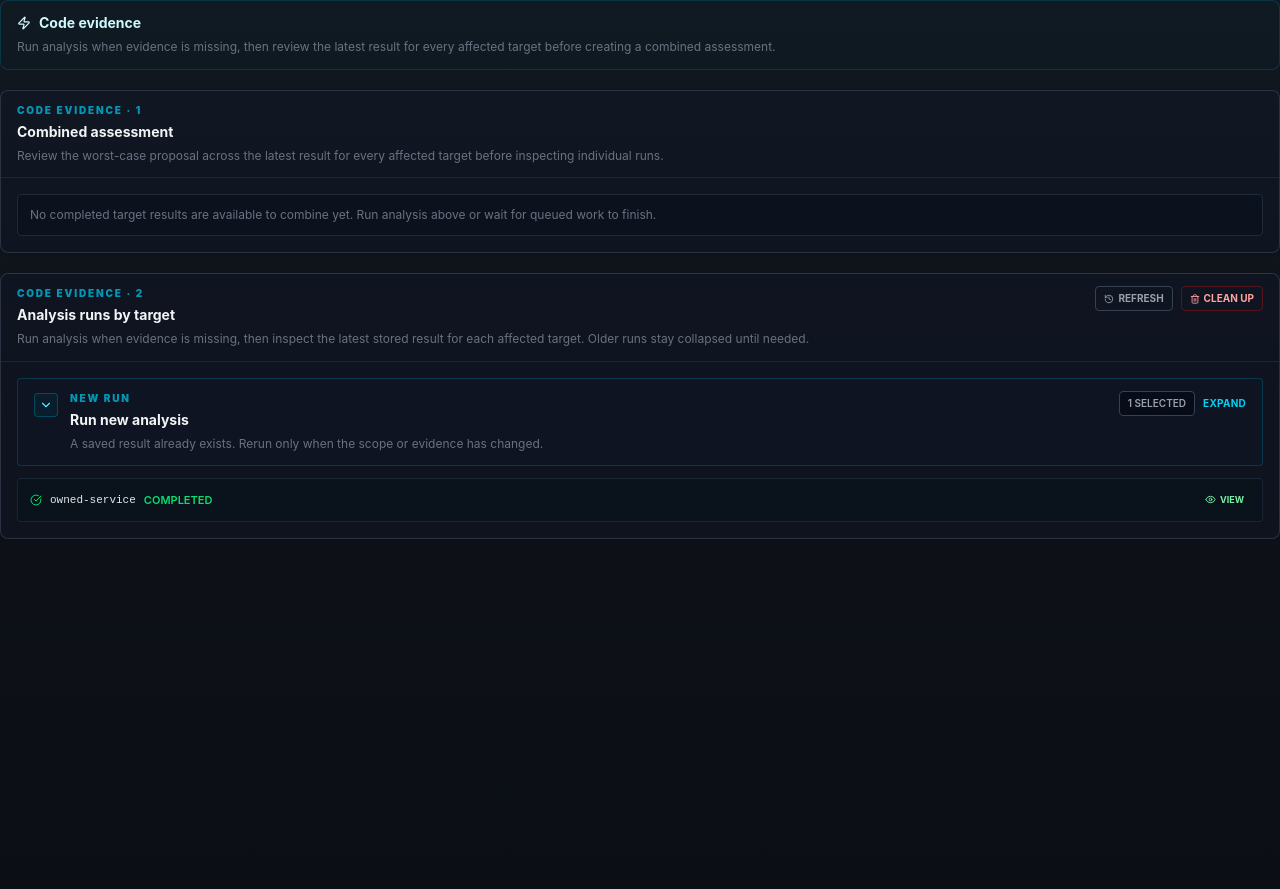
Test case: CodeAnalysisPanel › offers an opened completed queue result as the combined draft while history persistence catches up
The width and height of the screenshot is (1280, 889).
Click the button "View". click: [1224, 500]
box: [1199, 489, 1250, 510]
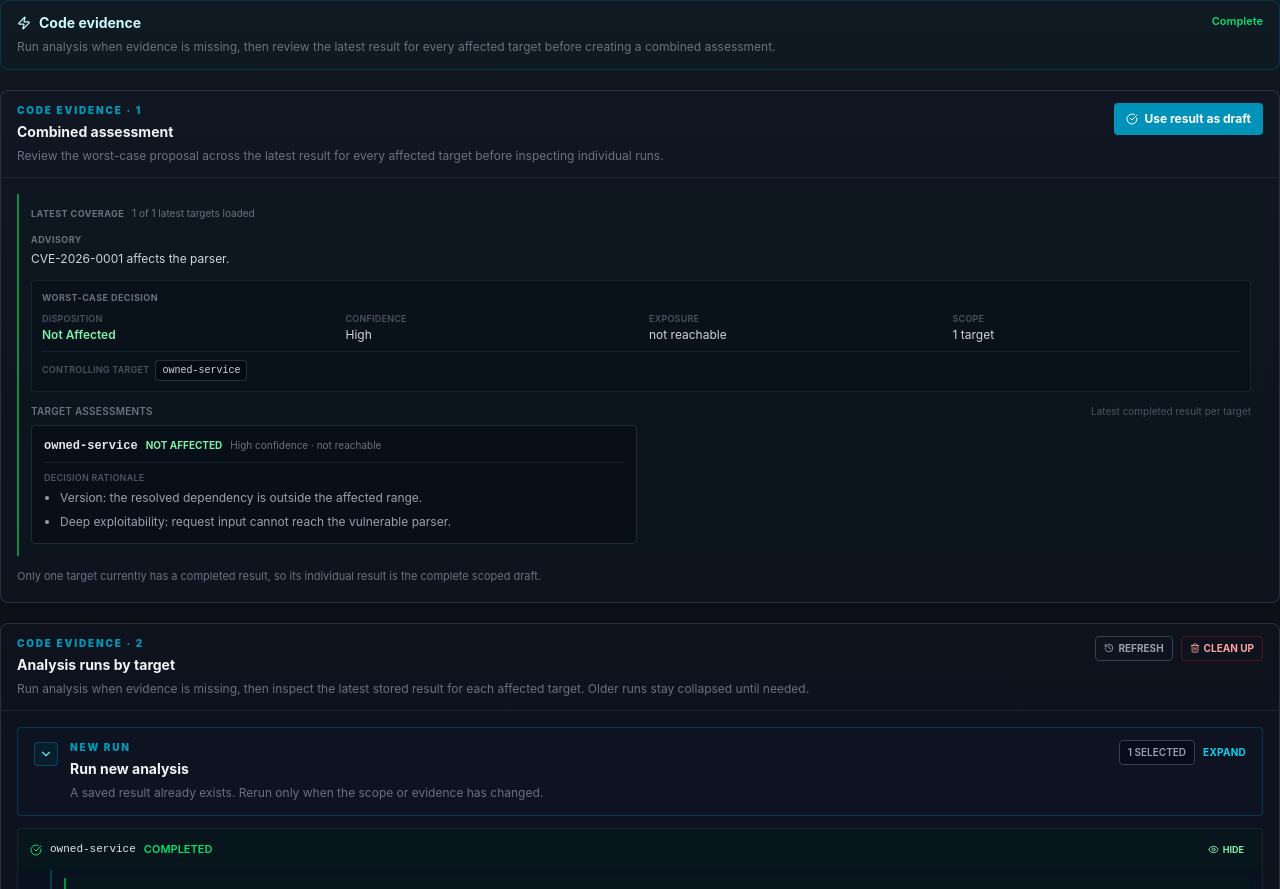
Now the element with test id "combined-analysis-assessment" shows "owned-service", box [162, 364, 240, 376]
Now the element with test id "combined-target-assessment" shows "Version:", box [60, 490, 422, 505]
Now the button with test id "apply-single-analysis-result" is shown, box [1114, 102, 1263, 134]
